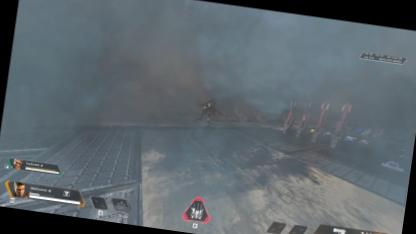Target: (192, 93, 220, 127)
